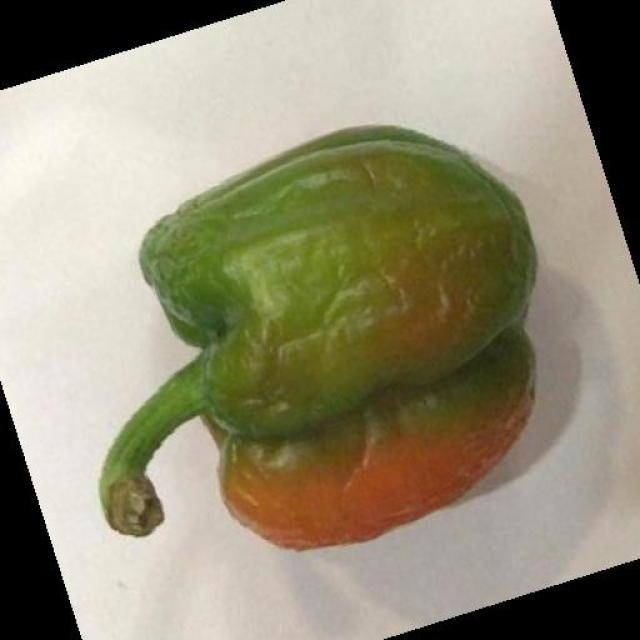Stale_Capsicum: (113, 106, 550, 546)
